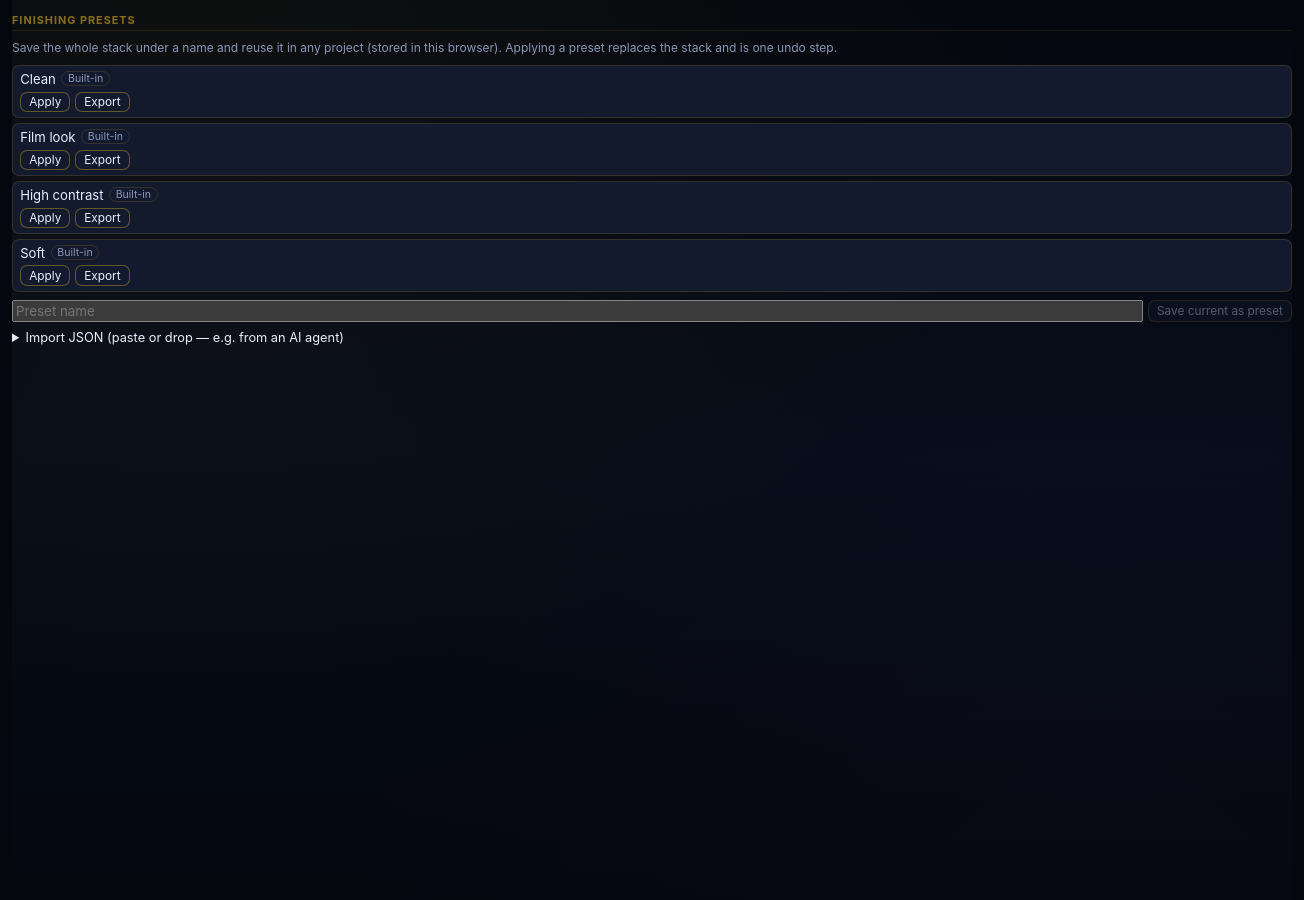
Test case: FinishingPresetsPanel › lists the built-ins and applies one as an undo step
Step 1. Click the button "Apply" below "High contrast" → point(45, 218), box [20,208,70,228]
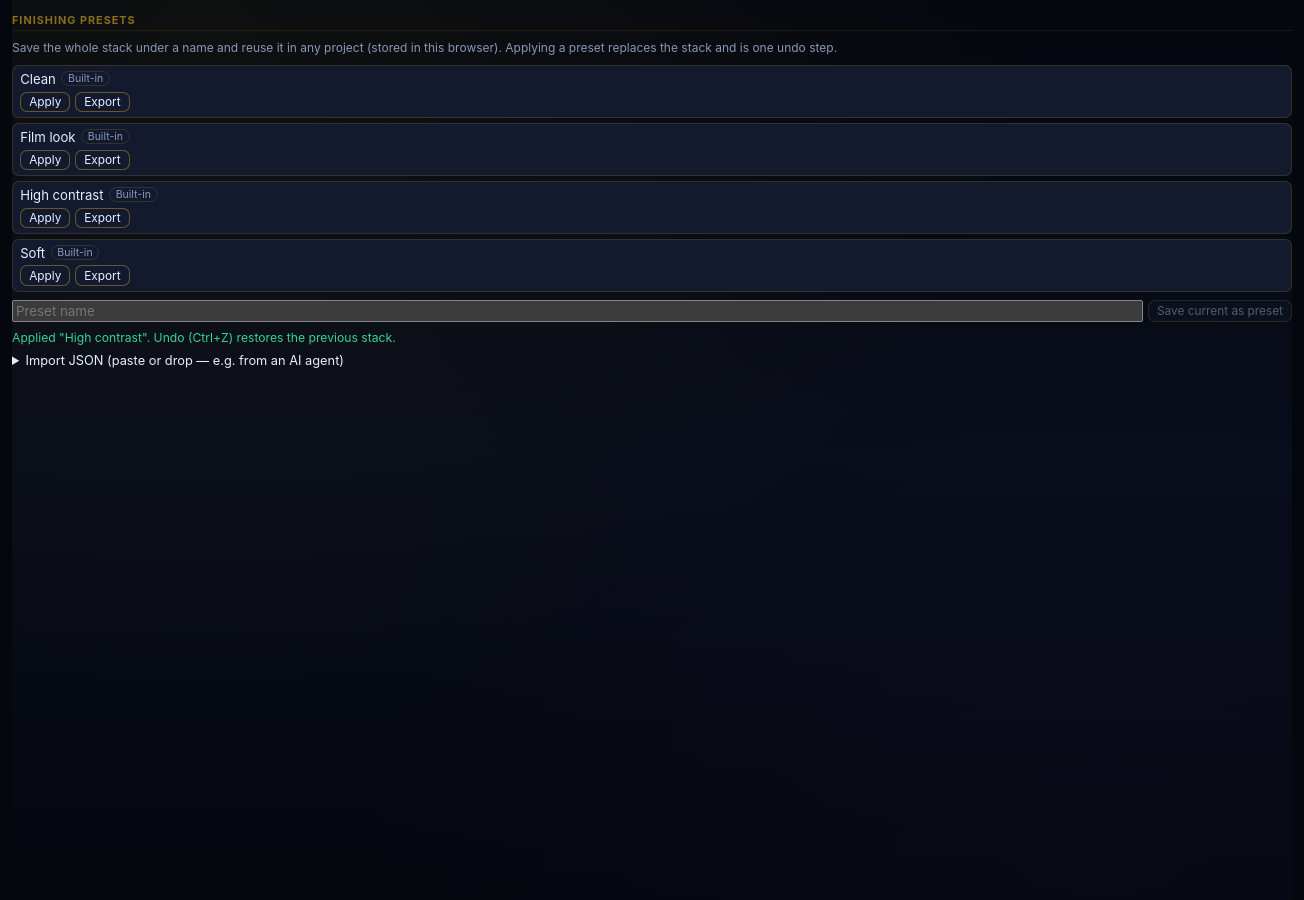
Result: the text "Applied \"High contrast\"" is shown at [12,330,396,345]
